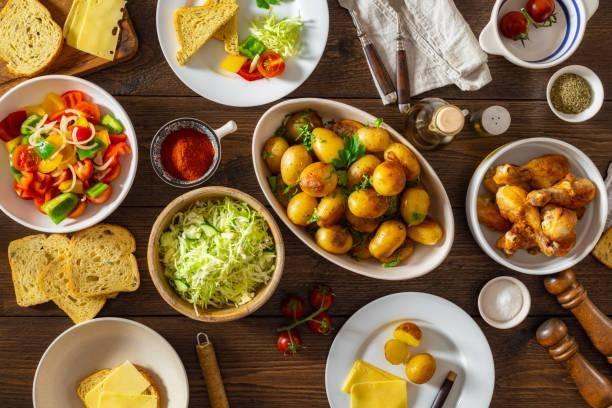Braised Crucian Carp: (251, 97, 445, 278), (3, 73, 139, 232), (464, 137, 605, 274), (146, 186, 281, 320)
